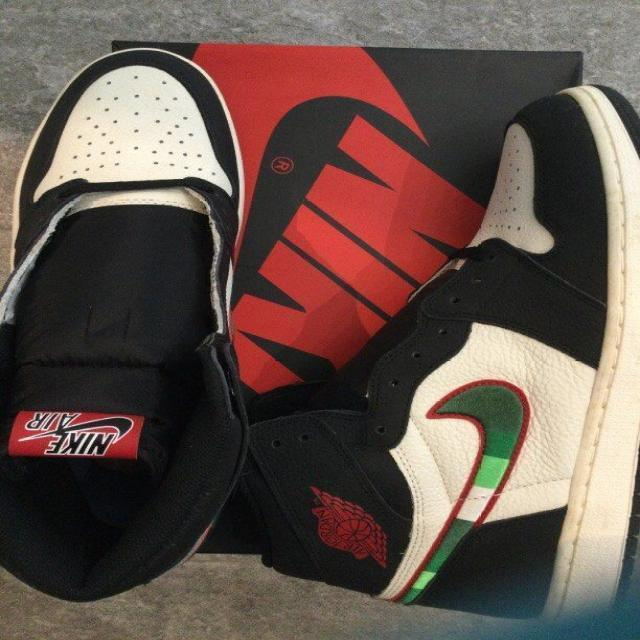nike original jordan 1: (242, 73, 640, 630), (3, 43, 258, 602)
